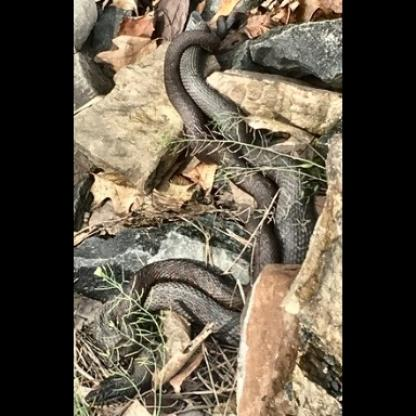Snake: (88, 12, 332, 407)
